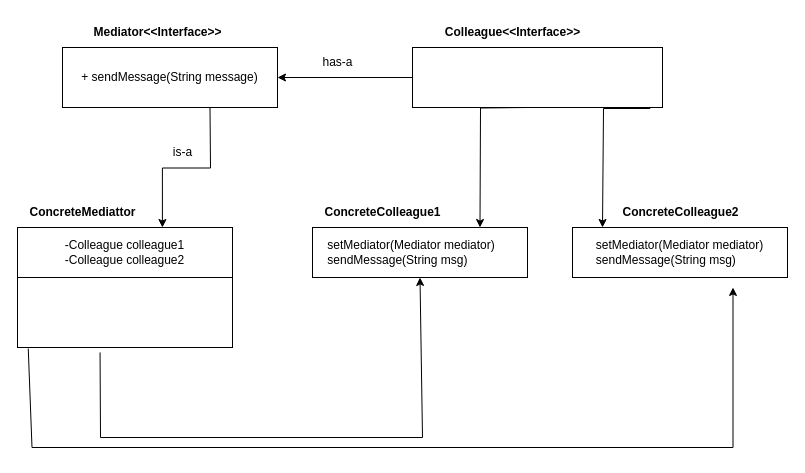
Image size: 805x473. Some labels were removed from this diagram. Each missing label, with the box of its shape:
+ setMediator(Mediator(Mediator mediator) + sendMessage(String message): (412, 46, 662, 108)
+sendMessage(String msg): (16, 266, 232, 348)
